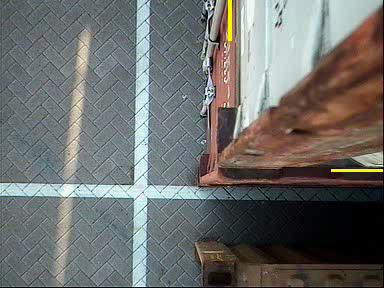groundmarker_2: (78, 136, 161, 189)
